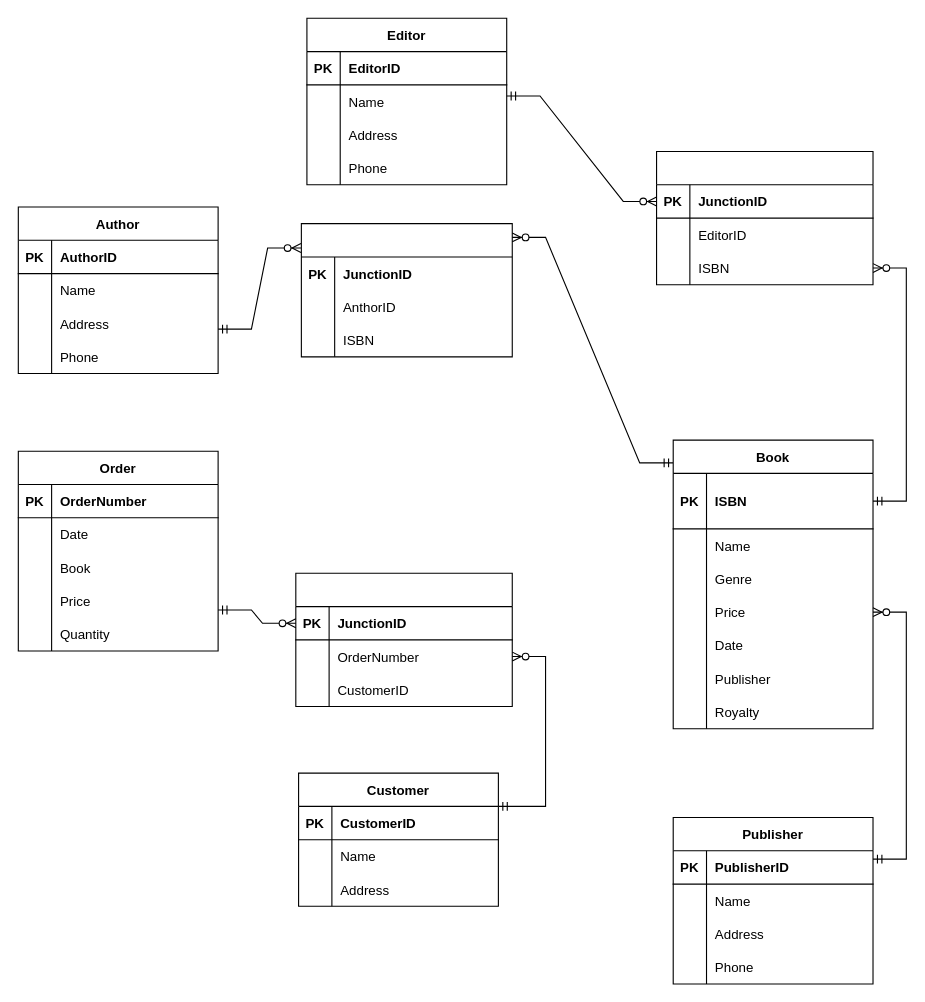
The diagram is 925 pixels wide and 1002 high, and some of its shapes have lost their labels. Each missing label, with the box of its shape:
Author_Book: (300, 223, 512, 357)
Editor_Book: (655, 150, 873, 285)
Order_Customer: (295, 572, 512, 707)
